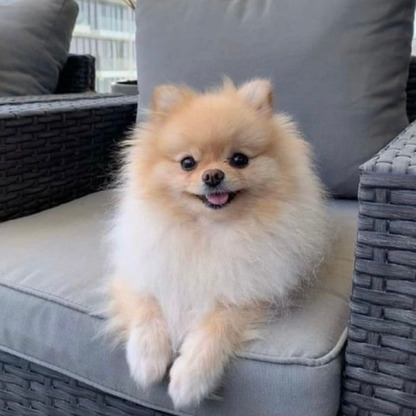Pomeranian: (101, 71, 343, 395)
